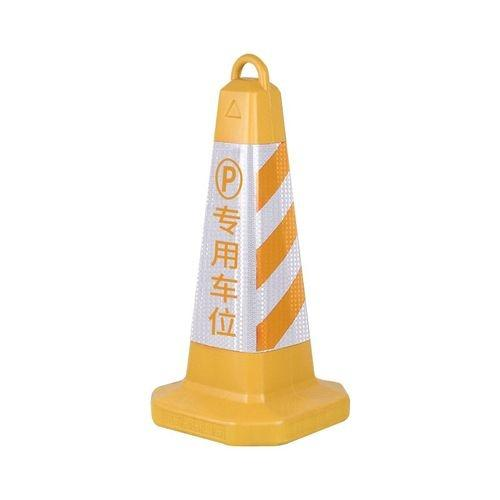cone_barrel: (146, 58, 351, 441)
